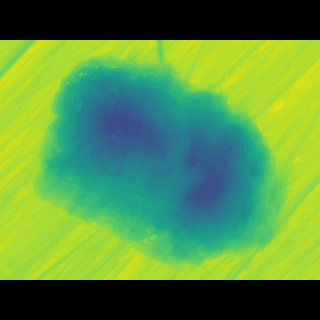Loch: (34, 79, 303, 241)
